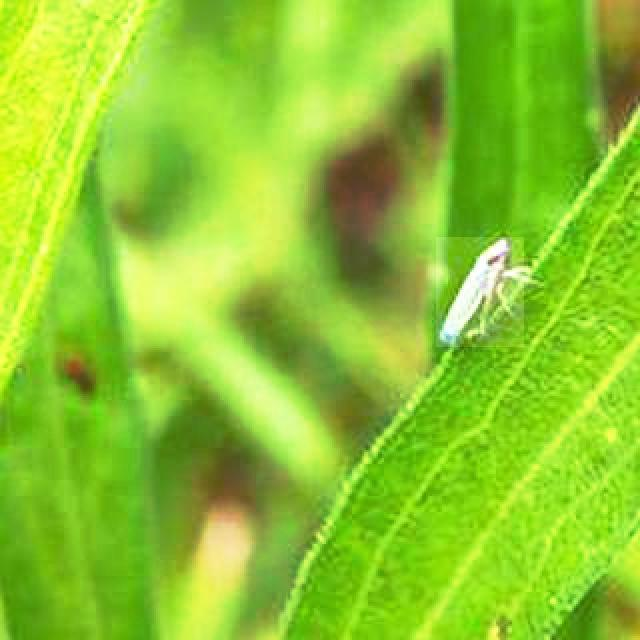green-leafhopper: (436, 237, 524, 347)
